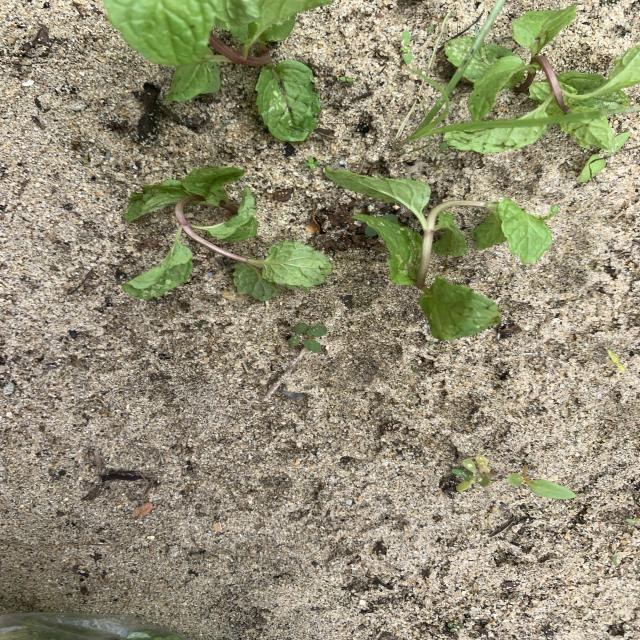crop: (325, 168, 554, 339), (105, 1, 331, 141), (122, 167, 330, 299), (466, 5, 639, 152)
weed: (397, 1, 503, 143), (509, 464, 575, 499), (453, 456, 490, 490), (289, 323, 327, 351), (608, 350, 626, 371), (400, 30, 411, 63), (305, 157, 319, 170), (447, 621, 462, 631), (626, 518, 639, 525)
